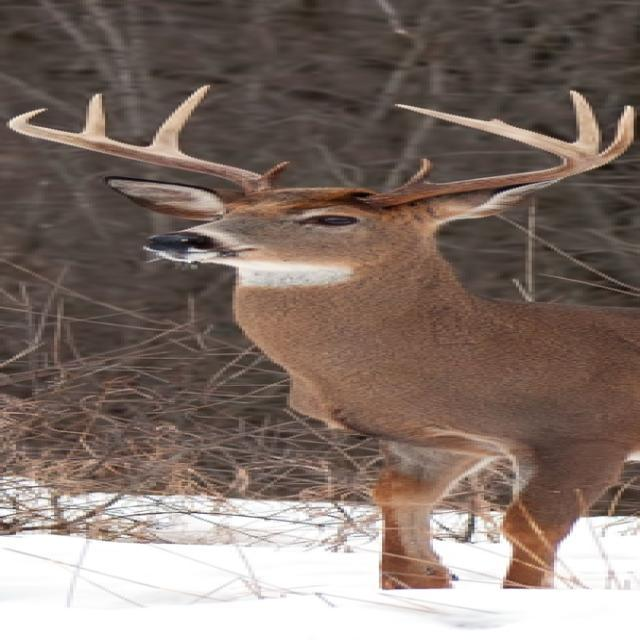L-F: (364, 103, 603, 207)
L-G1: (399, 158, 434, 187)
R-G1: (261, 161, 290, 182)
R-G2: (141, 85, 211, 156)
R-G3: (82, 93, 107, 138)
